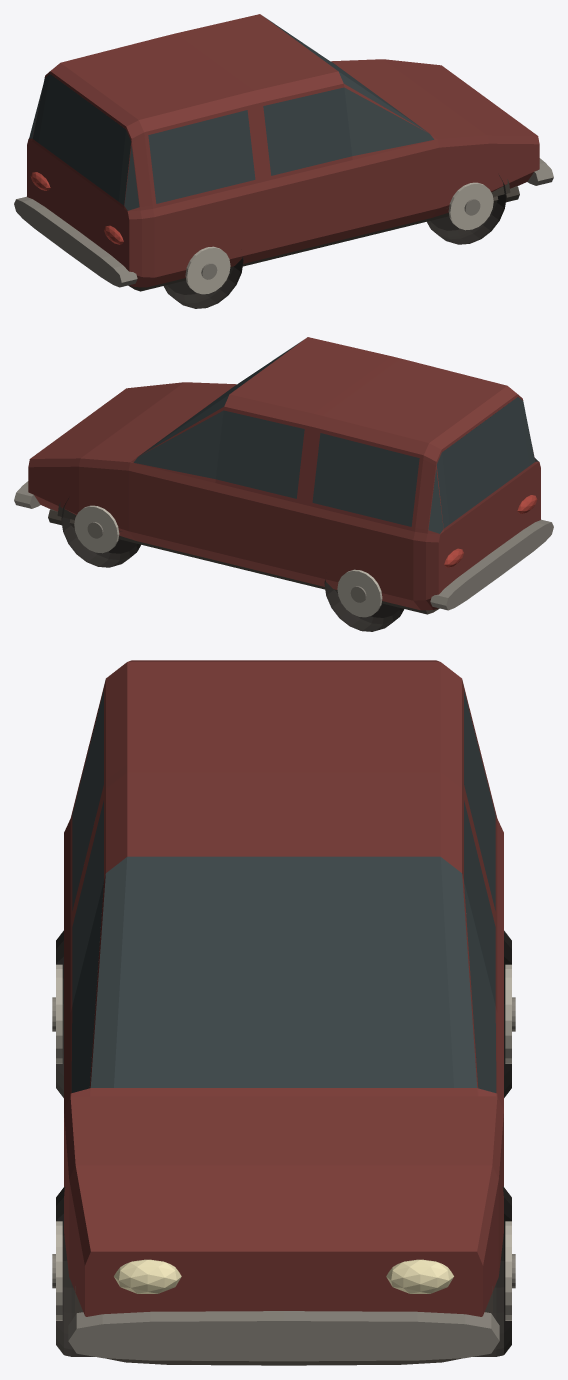
Rendered from hatchback-bordo.glb.
The picture shows the model from 3 angles, top to bottom: view 1: azimuth 30°, elevation 25°; view 2: azimuth 150°, elevation 25°; view 3: azimuth 270°, elevation 25°; orthographic projection. The views are drawn at different scales.
Parts seen in each view (by area): view 1: a_bordo, cam, tampon, jant, lastik, ic, stop; view 2: a_bordo, cam, tampon, jant, lastik, ic, stop; view 3: a_bordo, cam, tampon, lastik, far, jant, ic.
Boxes of the visible parts, box(x1,y1,x2,y2) form: a_bordo: box(27, 14, 539, 287); cam: box(29, 17, 433, 210); tampon: box(14, 158, 553, 287); jant: box(185, 182, 493, 294); lastik: box(163, 175, 506, 308); ic: box(128, 179, 519, 291); stop: box(30, 172, 123, 244); a_bordo: box(28, 337, 540, 610); cam: box(134, 340, 538, 533); tampon: box(14, 481, 553, 610); jant: box(74, 505, 382, 617); lastik: box(61, 498, 404, 631); ic: box(48, 502, 439, 614); stop: box(444, 495, 537, 567); a_bordo: box(64, 660, 503, 1316); cam: box(71, 690, 496, 1092); tampon: box(52, 997, 515, 1361); lastik: box(56, 930, 511, 1356); far: box(114, 1259, 453, 1293); jant: box(56, 964, 511, 1320); ic: box(75, 927, 492, 1365).
Bounding box in the file's own units: 3.81 × 1.61 × 1.77.
